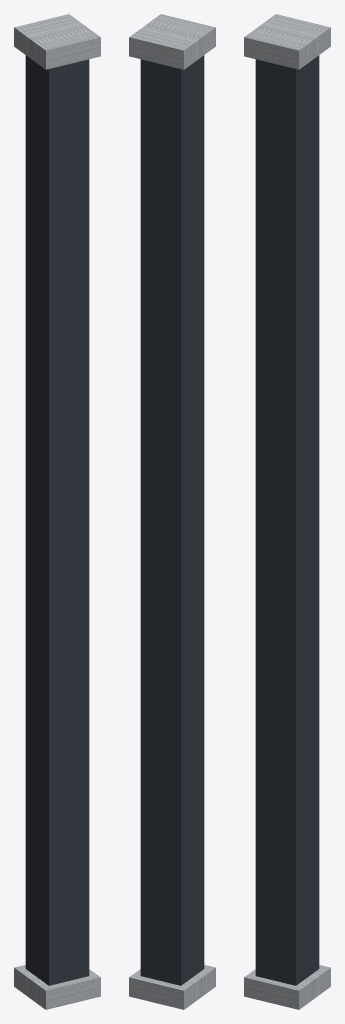
File: pillar-slim.glb
3 views of the same model, side by side, from view 1: azimuth 30°, elevation 25°; view 2: azimuth 150°, elevation 25°; view 3: azimuth 330°, elevation 25° (orthographic).
Parts seen in each view (by area): view 1: canonical; view 2: canonical; view 3: canonical.
Boxes of the visible parts, x1,y1,x2,y2 form: canonical: (14, 14, 100, 1009); canonical: (129, 14, 215, 1009); canonical: (244, 14, 330, 1009).
Bounding box in the file's own units: 0.3 × 5 × 0.3.
2 materials, 1 textured.
